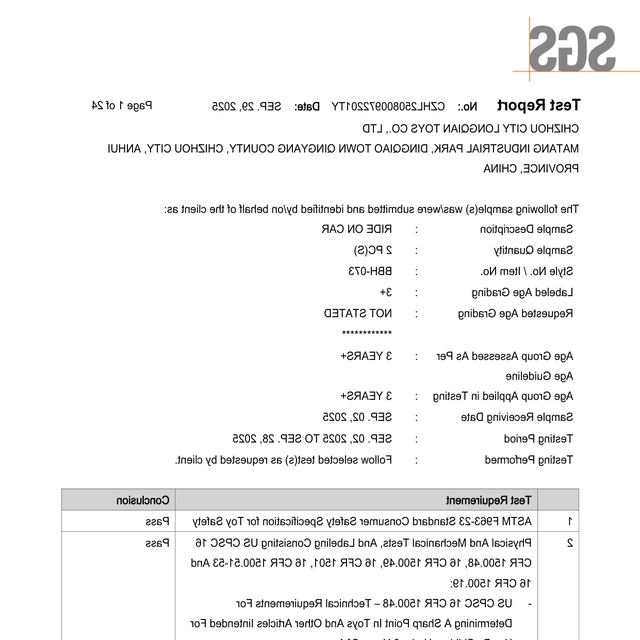sgs: (529, 25, 616, 72)
